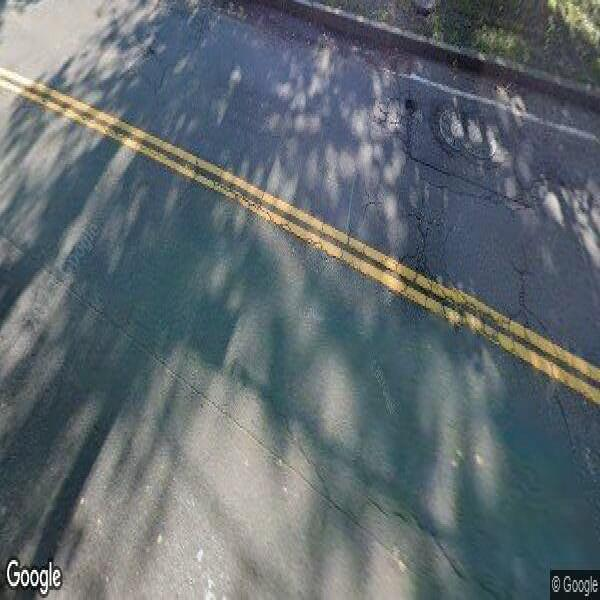manhole: (435, 84, 491, 167)
